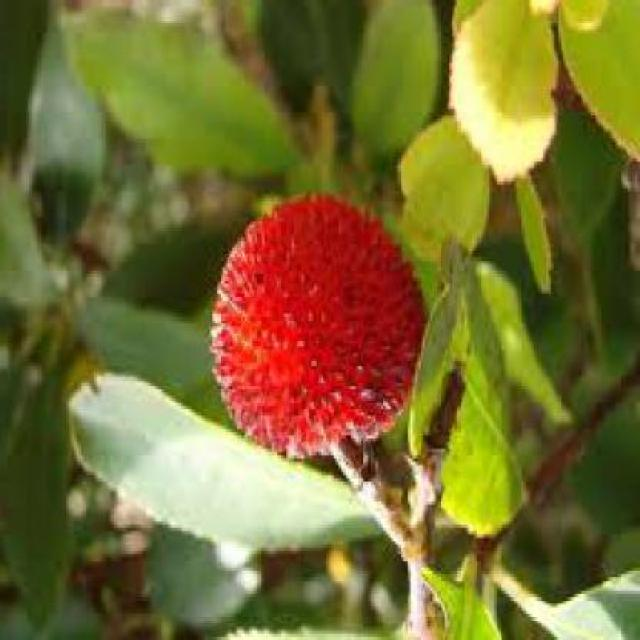BIODEGRADABLE: (212, 194, 426, 469)
